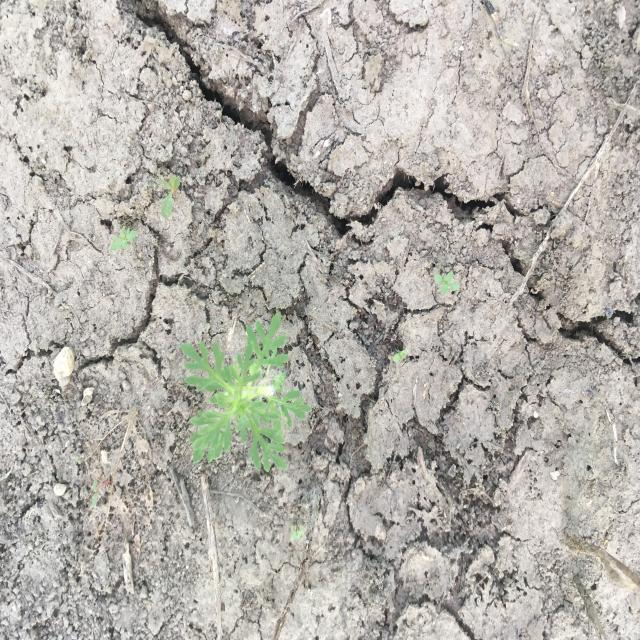Ragweed: (180, 310, 313, 475)
